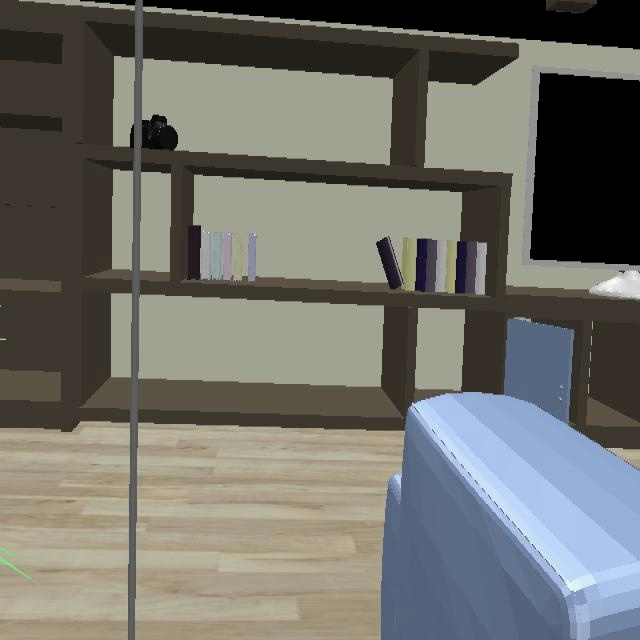book: (376, 237, 491, 292), (189, 225, 256, 280)
monitor: (522, 67, 640, 300)
sofa: (380, 392, 640, 640)
